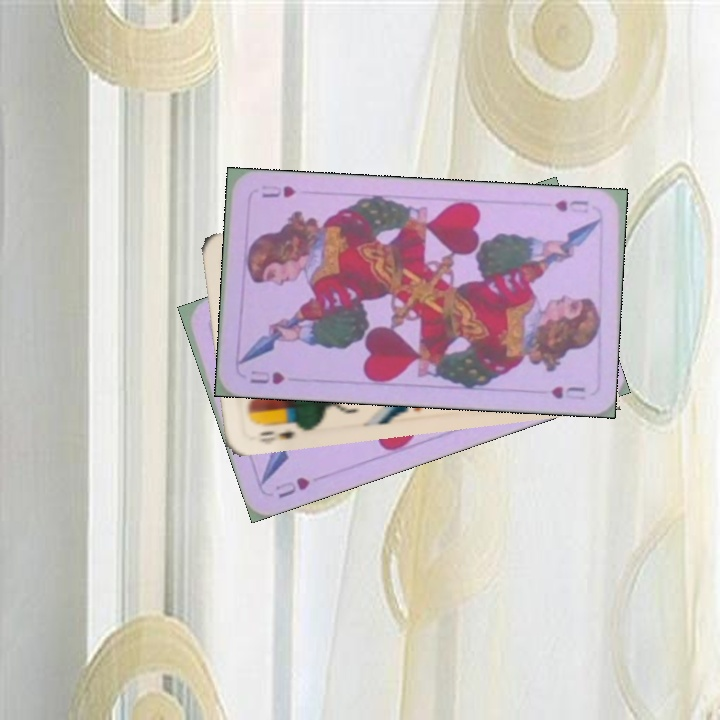EO: (249, 417, 306, 447)
HU: (271, 472, 312, 501), (246, 367, 287, 387), (551, 196, 591, 214)
